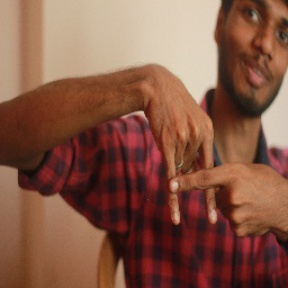H: (142, 129, 252, 246)
